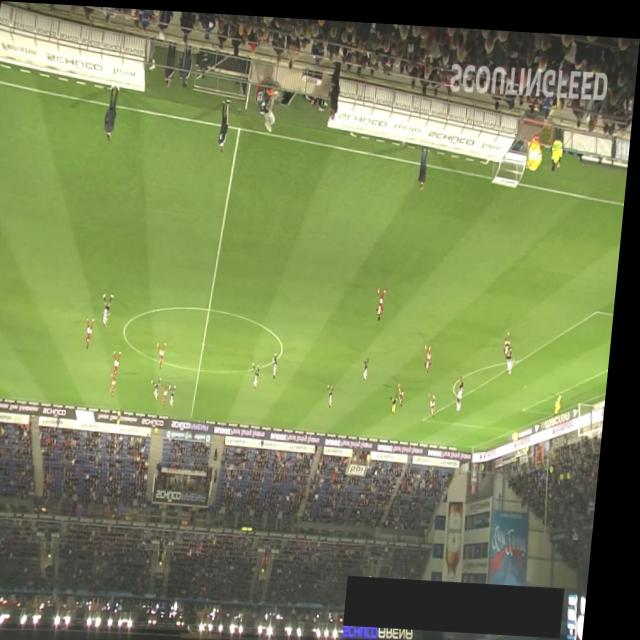goalkeeper: (559, 385, 569, 408)
player: (105, 290, 119, 327), (89, 314, 102, 347), (380, 281, 392, 316), (161, 339, 173, 367), (156, 373, 169, 397), (429, 338, 439, 367), (511, 340, 521, 368), (508, 324, 518, 352), (257, 358, 267, 386), (366, 350, 376, 377), (167, 379, 177, 404), (117, 348, 128, 370), (174, 381, 184, 405), (116, 369, 125, 395), (463, 367, 471, 395), (434, 387, 443, 411), (403, 377, 411, 401), (333, 379, 341, 403), (462, 384, 470, 406), (278, 350, 285, 374)
referee: (395, 388, 404, 410), (122, 406, 130, 425)
